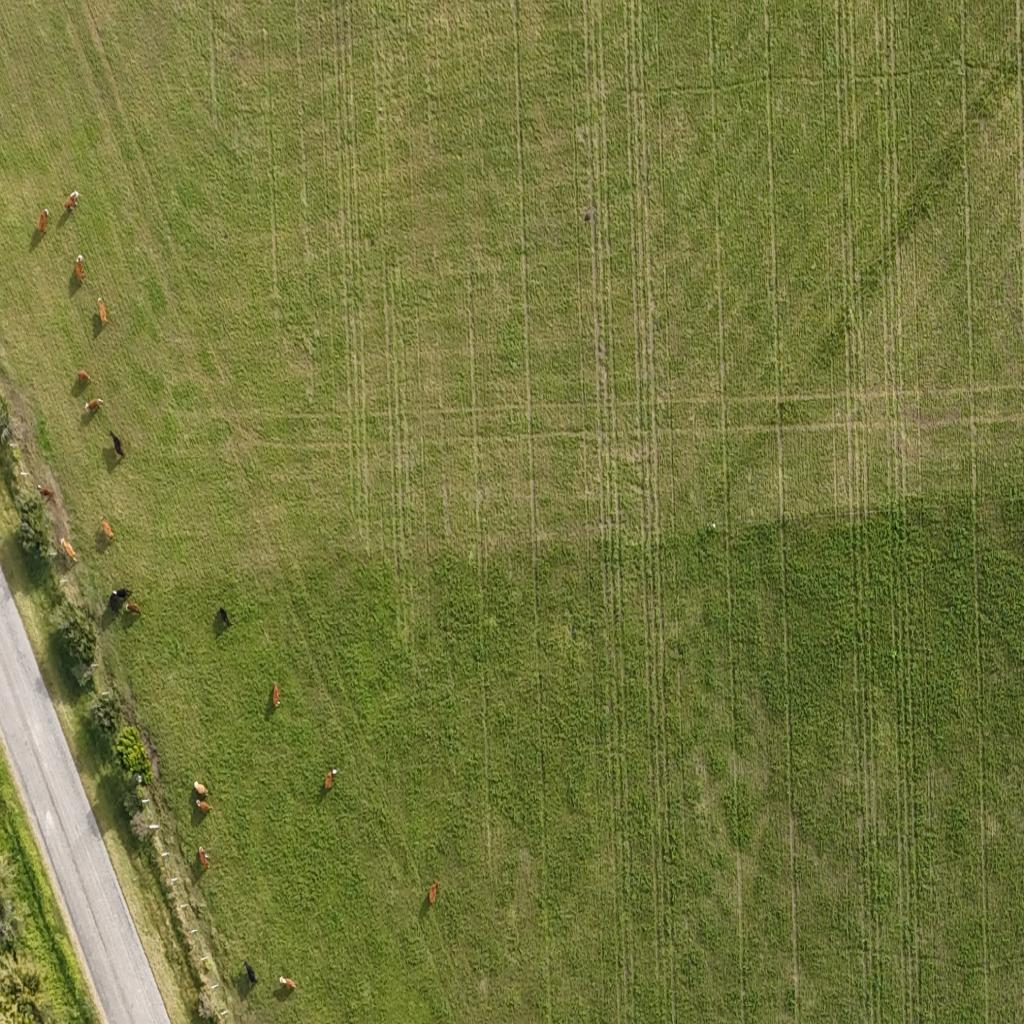cow: (96, 510, 116, 542), (109, 429, 126, 458), (60, 538, 78, 563), (64, 191, 80, 215), (216, 605, 232, 628), (38, 208, 50, 237), (270, 680, 282, 709), (74, 254, 84, 284), (244, 960, 256, 984), (323, 767, 336, 789), (198, 847, 210, 870), (428, 881, 440, 904), (98, 296, 108, 323), (193, 780, 207, 799), (112, 588, 130, 602), (86, 398, 104, 412), (278, 975, 296, 989), (125, 602, 141, 616), (197, 798, 211, 814), (76, 370, 90, 385), (39, 486, 54, 498)
